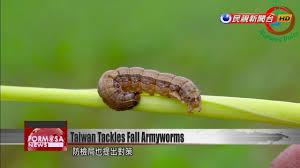fallarmy_worm: (92, 65, 212, 117)
